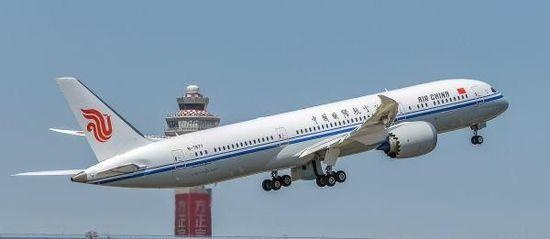airplane: (11, 69, 517, 186)
